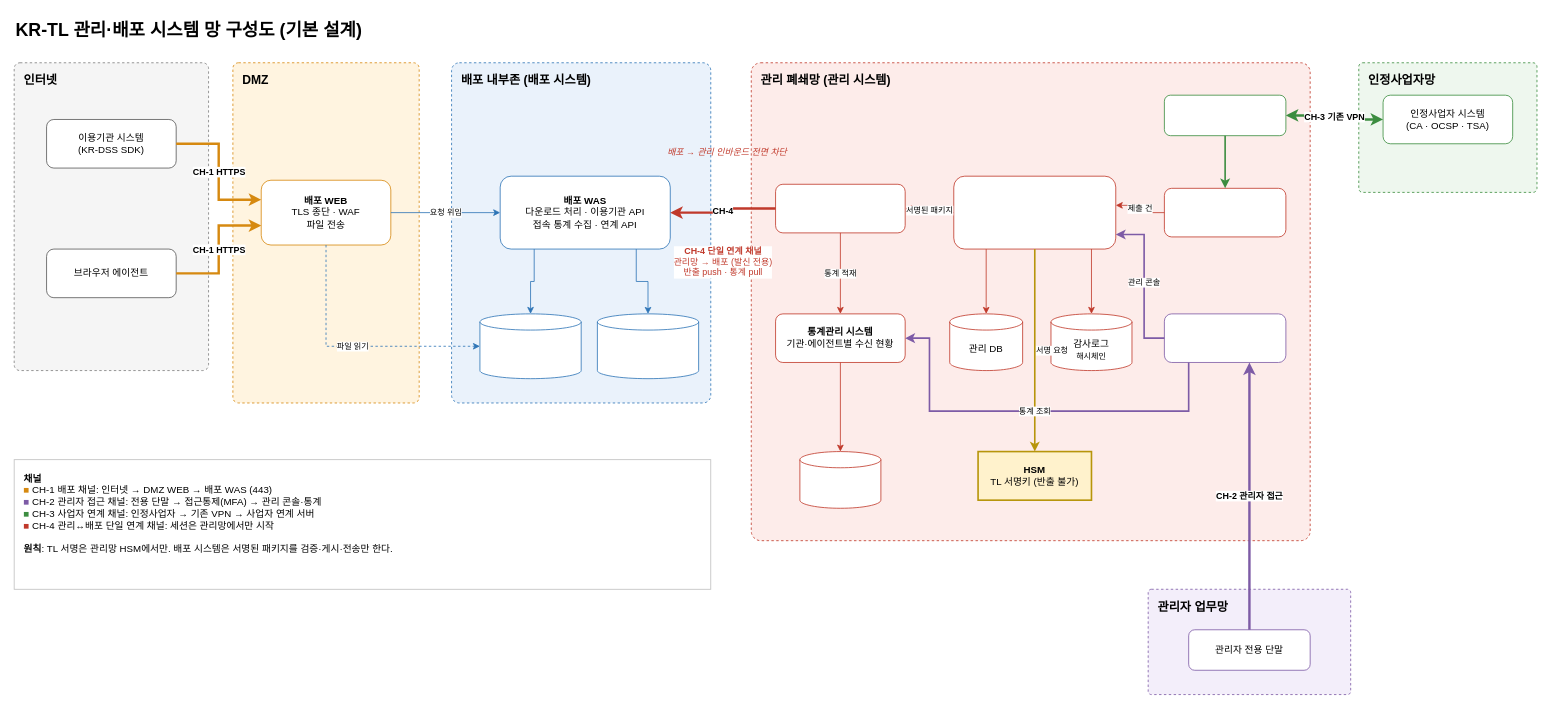
Image size: 1551x709. Some labels were removed from this diagram. Each missing label, with the centre of its shape:
"VPN 게이트웨이" belongs at (x=1225, y=115).
"관리 WAS 사업자 관리 · 심사 TL 생성 · 승인 · 서명 요청" belongs at (x=1034, y=212).
"배포 DB 배포 이력 · 접속 이벤트" belongs at (x=648, y=346).
"배포 저장소 TL · 서명인증서 · 모듈" belongs at (x=530, y=346).
"사업자 연계 서버 제출 접수 · 자동 수집" belongs at (x=1225, y=212).
"연계 서버 패키지 반출 · 통계 회수" belongs at (x=840, y=208).
"접근통제 게이트웨이 MFA · 세션 기록" belongs at (x=1225, y=337).
"통계 DB" belongs at (x=840, y=479).
